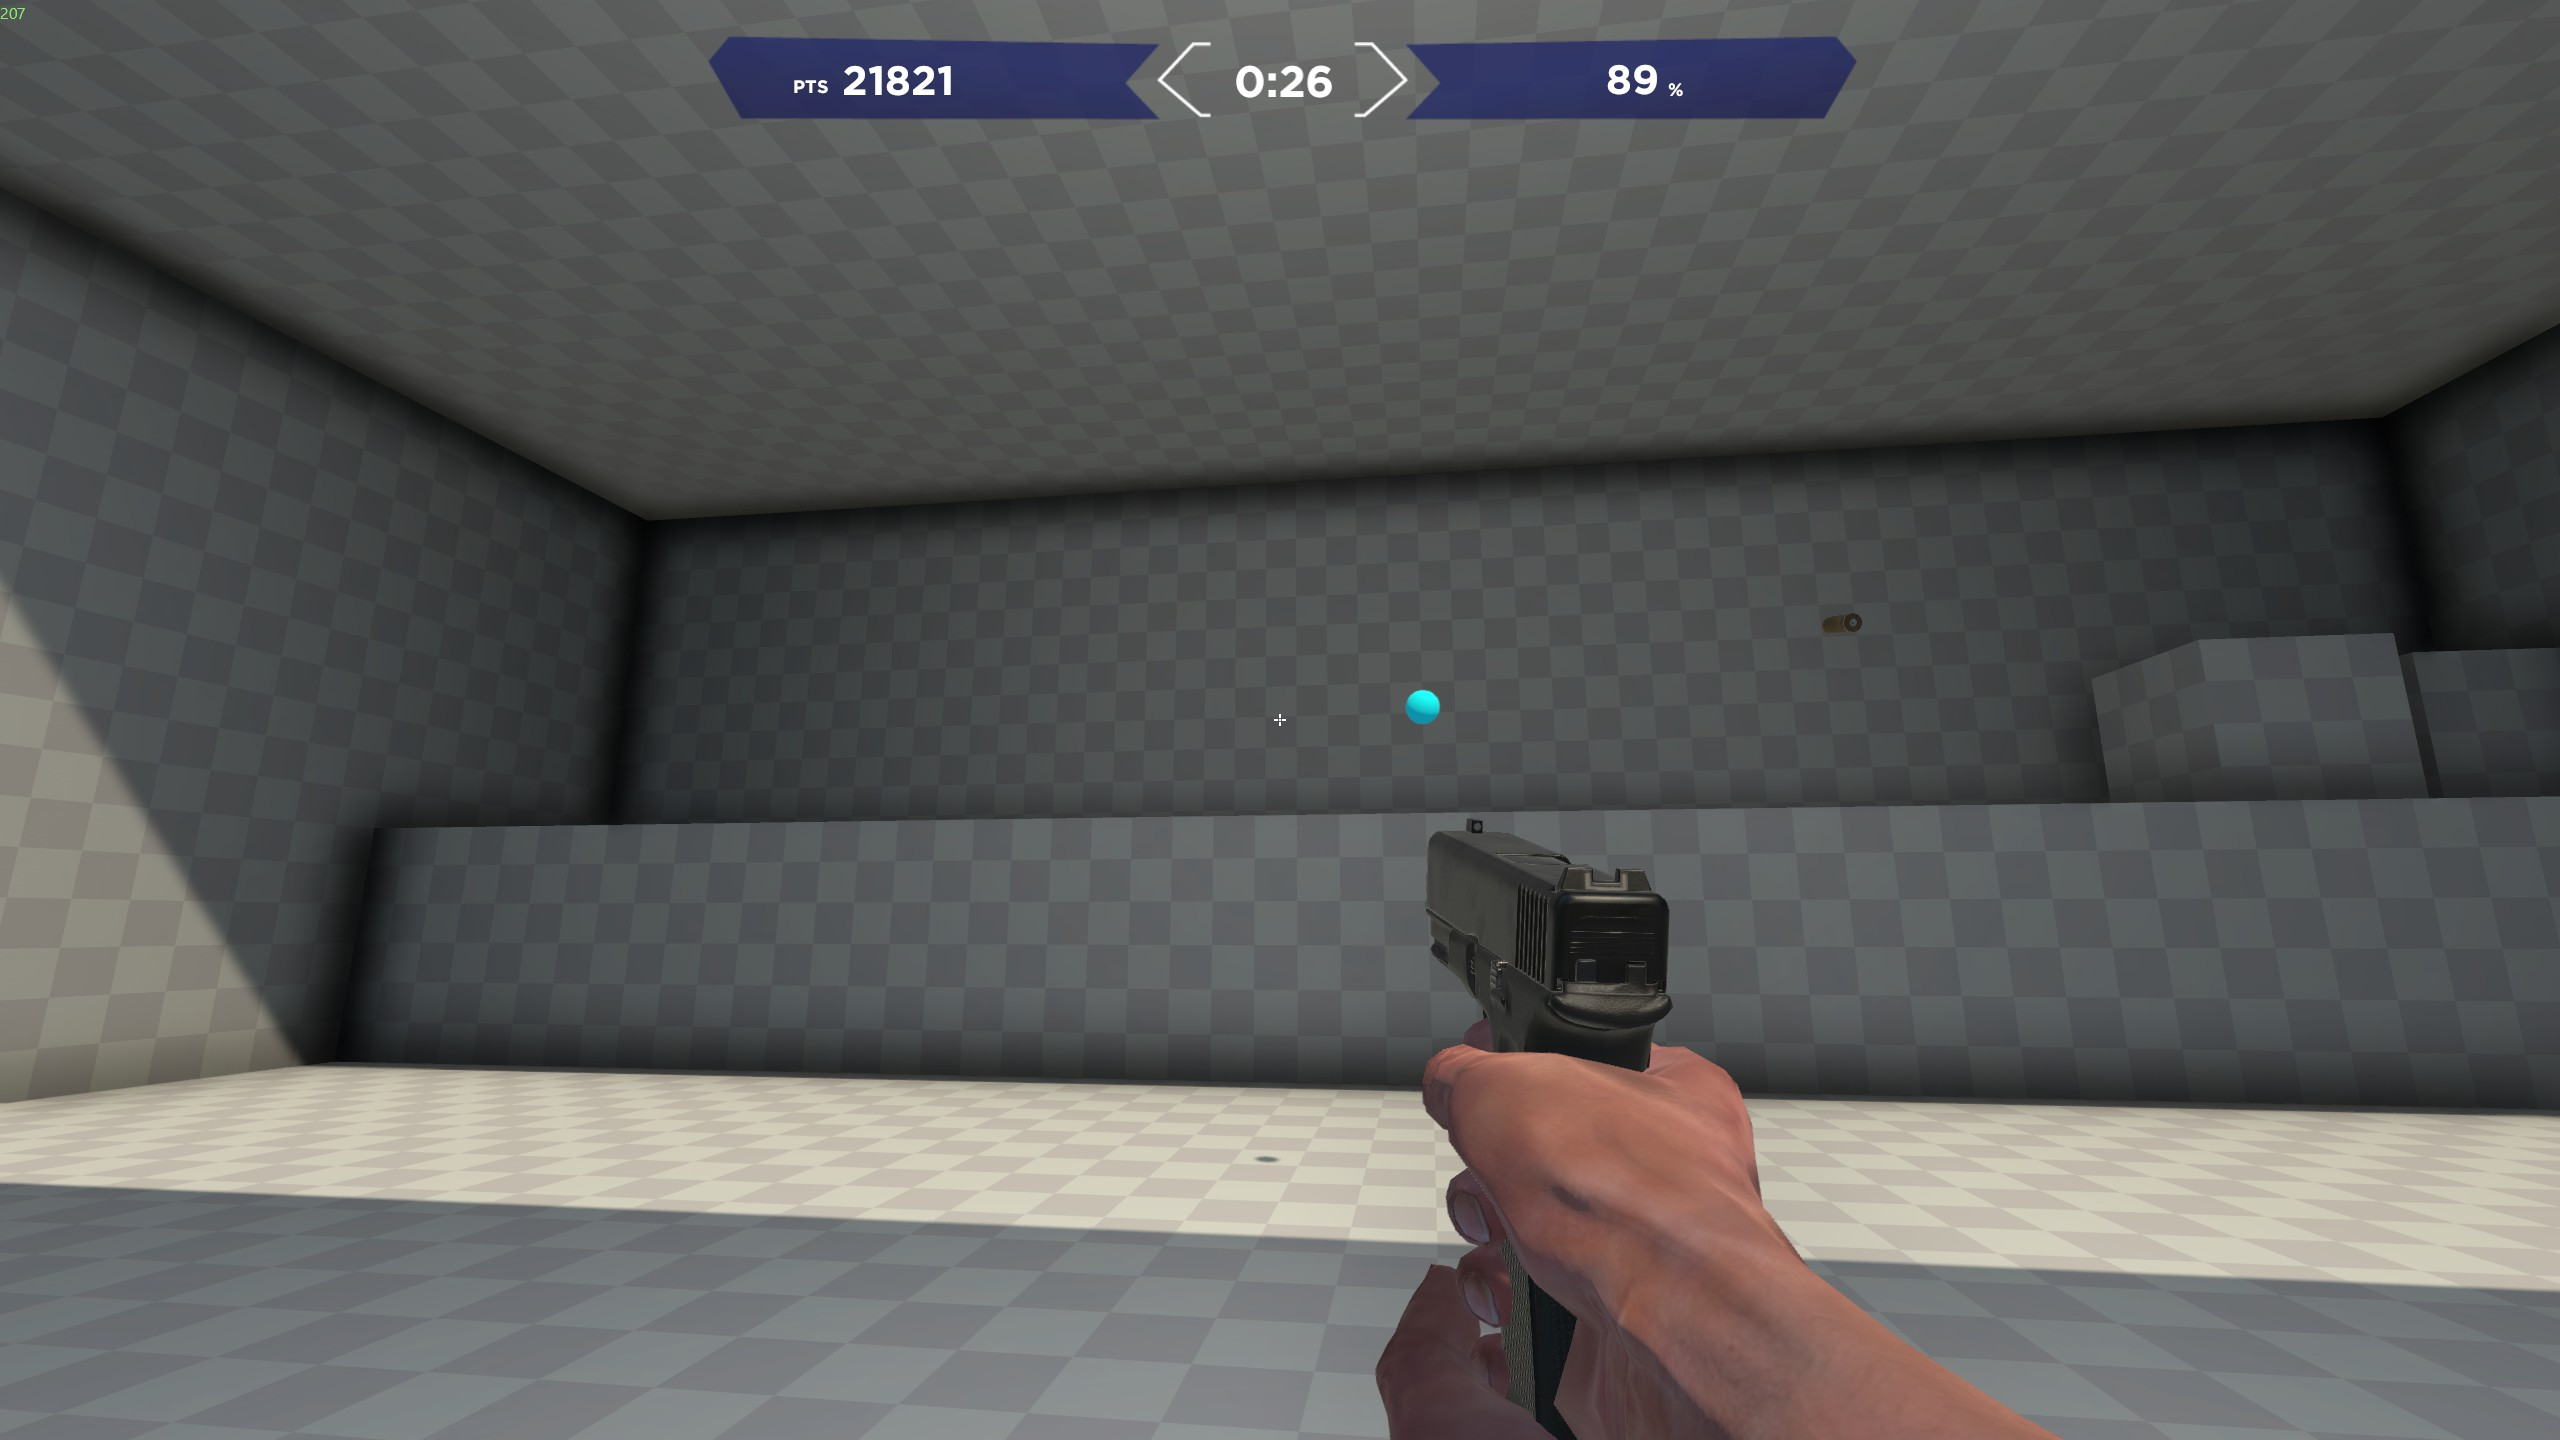Target: (1401, 689, 1451, 726)
